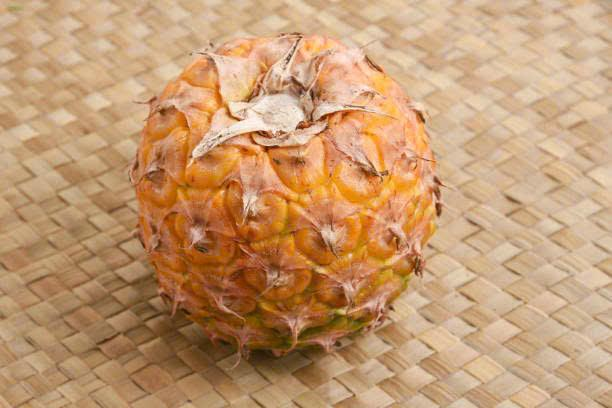pineapple: (128, 28, 431, 354)
